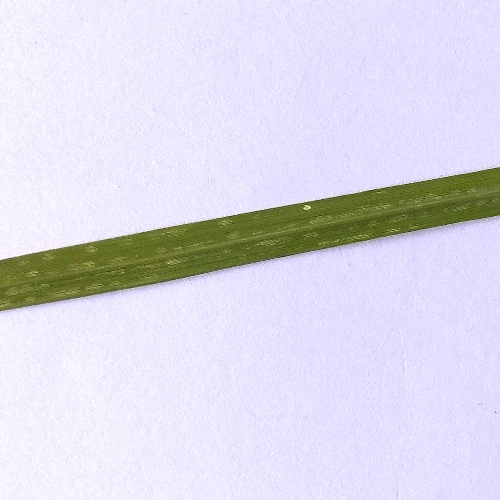Busuk Leher: (293, 200, 317, 217)
